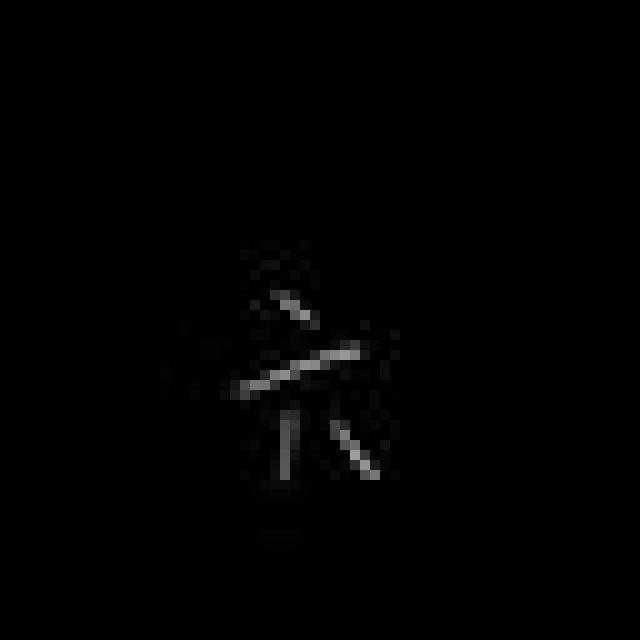6 -six-: (227, 282, 389, 500)
